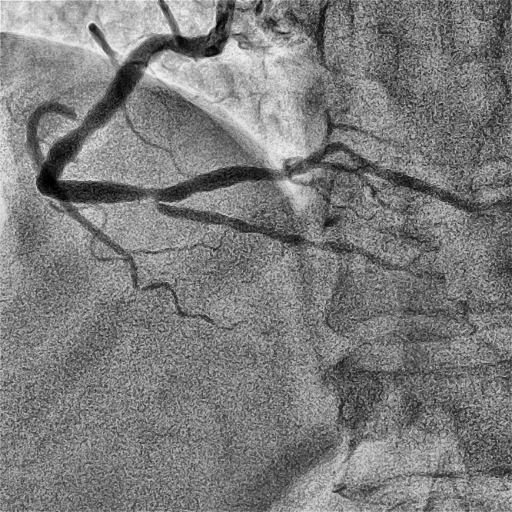pborca: (156, 141, 472, 212)
pda: (152, 199, 399, 270)
rca: (34, 35, 223, 203)
